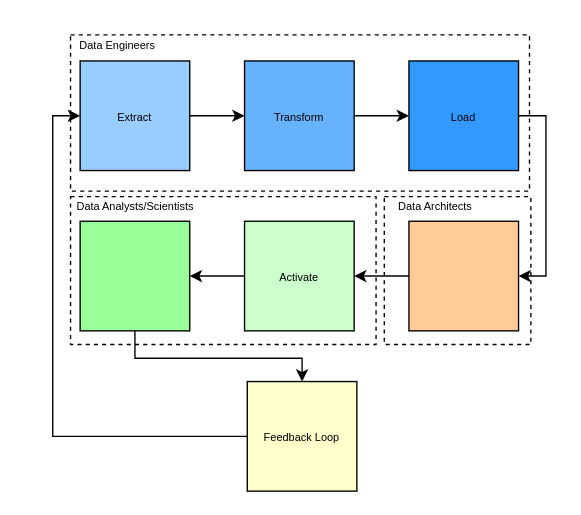
Image size: 581x515. Some labels were removed from this diagram. Each missing label, with the centre of its shape:
"Analyze" goes at pixel 134 275.
"Organize" goes at pixel 463 275.
